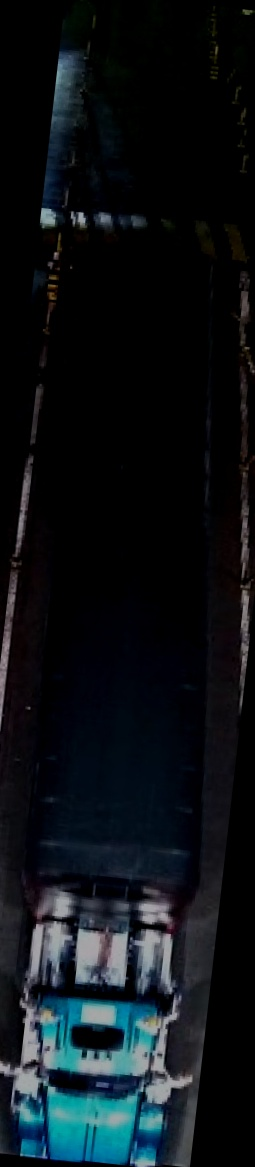truck: (0, 224, 255, 1167)
